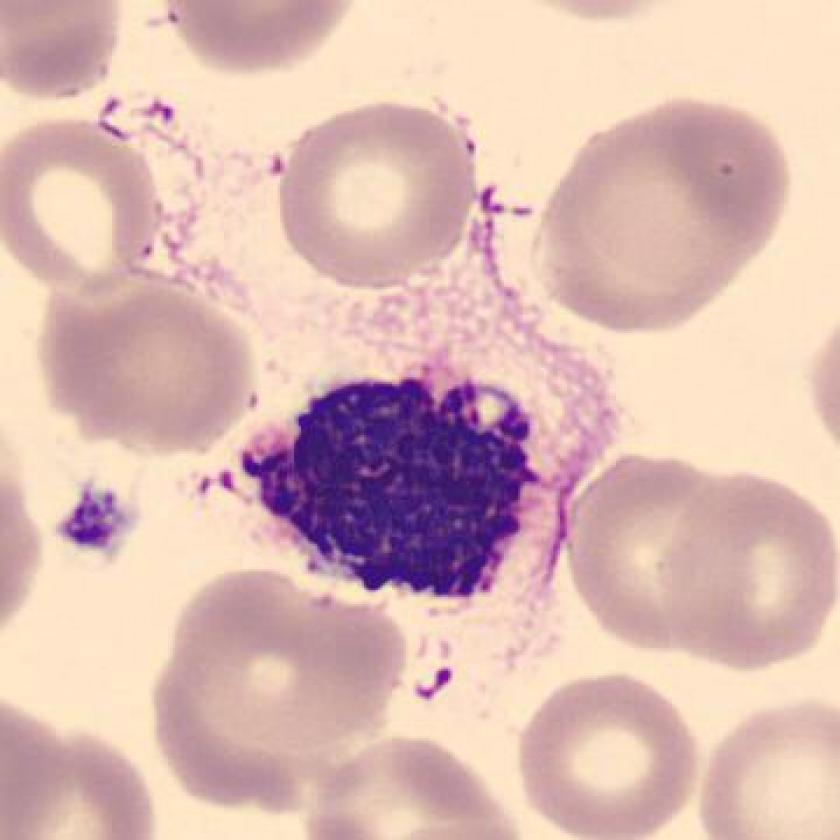basophil: (237, 371, 542, 612)
